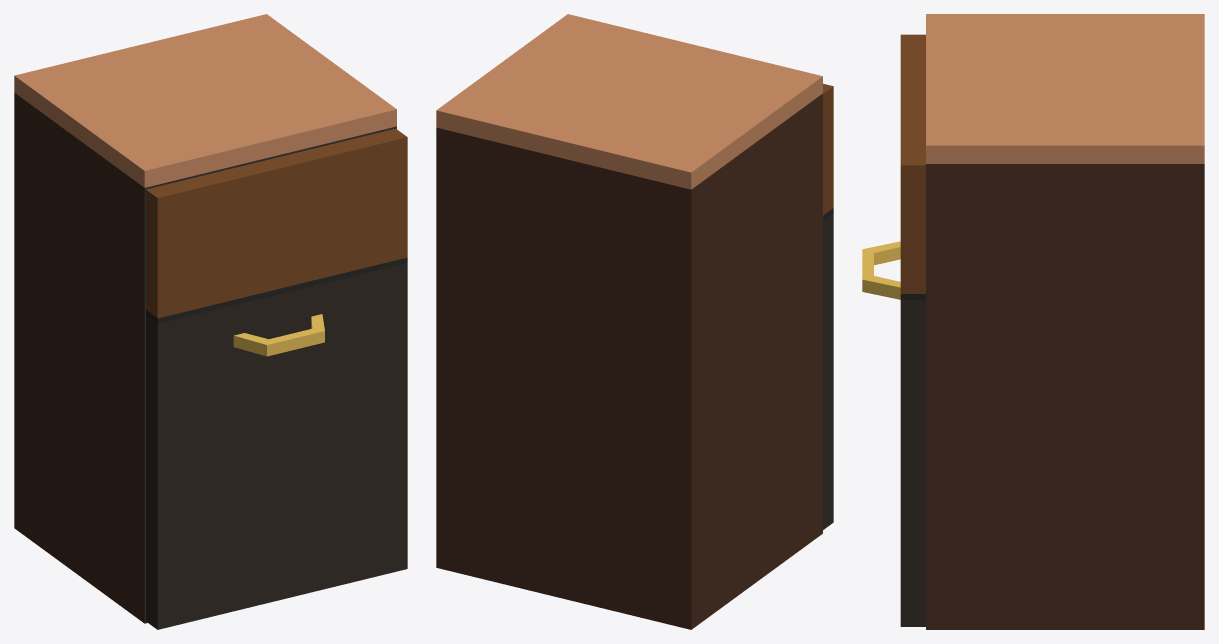
File: Kitchen_Cabinet_1B.fbx
The picture shows the model from 3 angles, left to right: view 1: azimuth 30°, elevation 25°; view 2: azimuth 150°, elevation 25°; view 3: azimuth 270°, elevation 25°; orthographic projection. The views are drawn at different scales.
Parts seen in each view (by area): view 1: polySurface1775; view 2: polySurface1775; view 3: polySurface1775.
Part boxes in pixels (left/top/right/bottom): polySurface1775: left=14, top=14, right=407, bottom=629; polySurface1775: left=436, top=14, right=833, bottom=629; polySurface1775: left=862, top=14, right=1204, bottom=629.
Size of the model in its own units: 0.7792 by 1.34 by 0.8565.
1 material, 1 textured.
